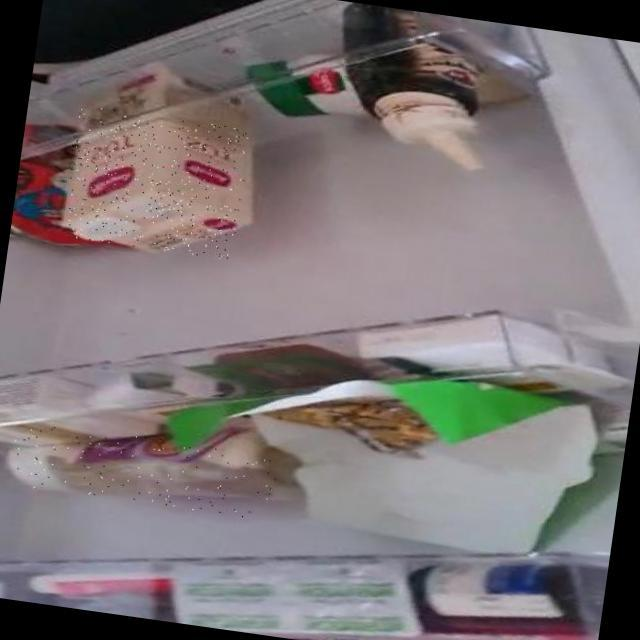milk: (60, 104, 251, 260)
sauce: (0, 418, 278, 521)
